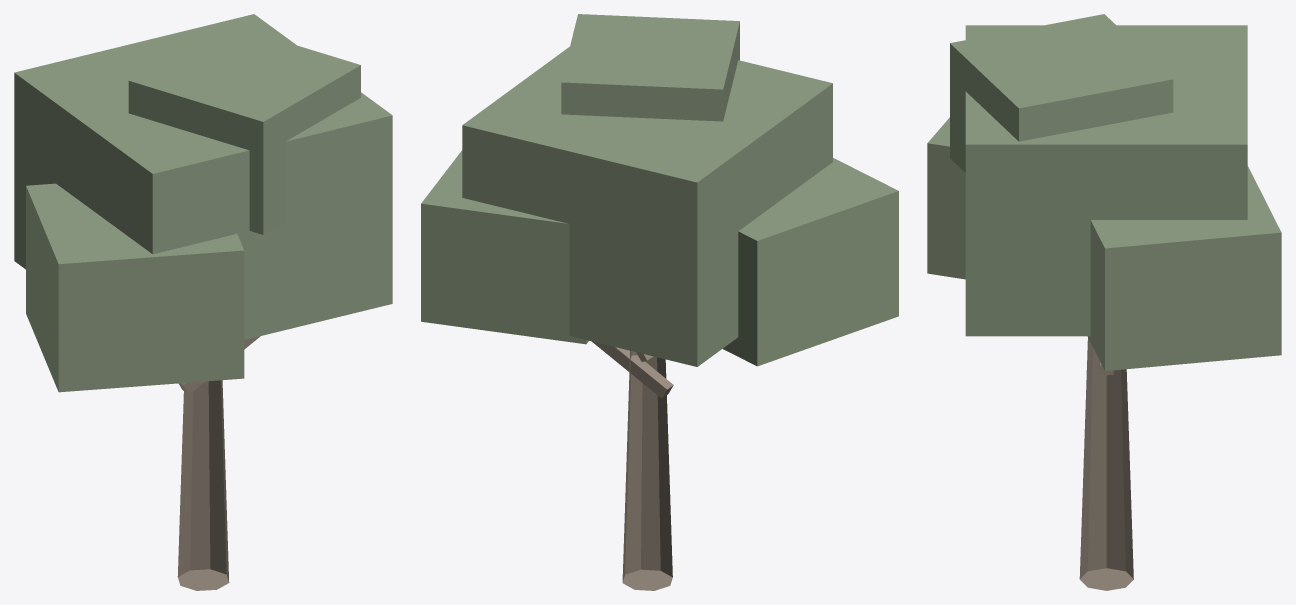
File: tree_blockout.glb
3 views of the same model, side by side, from view 1: azimuth 30°, elevation 25°; view 2: azimuth 150°, elevation 25°; view 3: azimuth 270°, elevation 25° (orthographic). The views are drawn at different scales.
Visible parts, largest first — view 1: props_tree_blockout; view 2: props_tree_blockout; view 3: props_tree_blockout.
Part boxes in pixels (x1=…): props_tree_blockout: x1=14, y1=14, x2=392, y2=590; props_tree_blockout: x1=421, y1=14, x2=898, y2=590; props_tree_blockout: x1=927, y1=14, x2=1281, y2=590.
Size of the model in its own units: 3.94 by 5.16 by 3.14.
